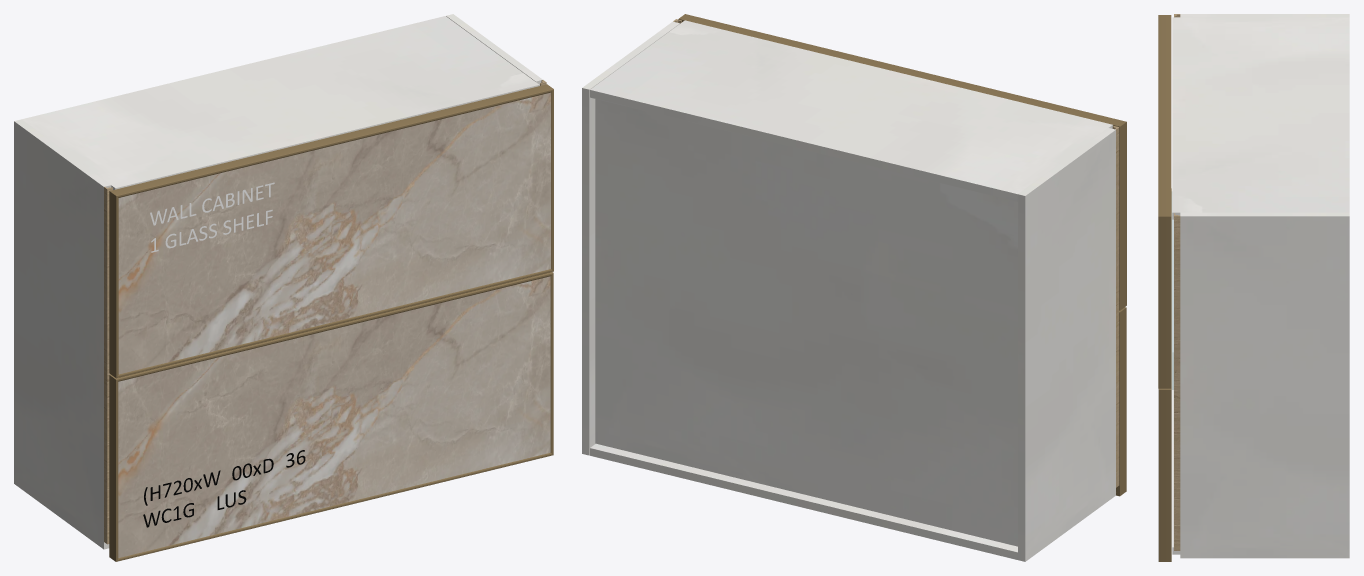
Rendered from WC-LU-NHX-ST-1SG-XXX-XXX-900-725-336-15.glb.
3 views of the same model, side by side, from view 1: azimuth 30°, elevation 25°; view 2: azimuth 150°, elevation 25°; view 3: azimuth 270°, elevation 25° (orthographic). The views are drawn at different scales.
Visible parts, largest first — view 1: Object_node_4, Object_node_6, TP, TP_node_0, Extrusion_node_2, Object_node_8, Extrusion, Extrusion_node_5, Extrusion_node_1, Extrusion_node_0, Extrusion_node_4, 2D text (+3 smaller); view 2: TP_node_2, TP, TP_node_0, TP_node, TP_node_1, Extrusion_node_2, Extrusion_node_1, Extrusion_node_5, Object_node_8; view 3: TP_node_1, TP, Extrusion_node_2, Extrusion_node_3, Extrusion_node, Object_node_16, TP_node_0, TP_node, Object_node_1.
Part boxes in pixels (box(x1,y1,x2,y2)): Object_node_4: box(118, 276, 550, 557); Object_node_6: box(118, 92, 550, 374); TP: box(22, 16, 539, 189); TP_node_0: box(14, 119, 111, 549); Extrusion_node_2: box(110, 84, 553, 197); Object_node_8: box(104, 186, 112, 544); Extrusion: box(109, 272, 553, 381); Extrusion_node_5: box(109, 191, 118, 377); Extrusion_node_1: box(109, 375, 118, 561); Extrusion_node_0: box(116, 453, 553, 561); Extrusion_node_4: box(117, 269, 553, 377); 2D text: box(150, 182, 274, 252); TP_node_2: box(595, 99, 1017, 546); TP: box(590, 20, 1112, 201); TP_node_0: box(1018, 128, 1115, 561); TP_node: box(590, 443, 1017, 559); TP_node_1: box(582, 21, 680, 455); Extrusion_node_2: box(678, 14, 1126, 126); Extrusion_node_1: box(1116, 308, 1126, 495); Extrusion_node_5: box(1119, 122, 1126, 310); Object_node_8: box(1112, 125, 1119, 487); TP_node_1: box(1180, 212, 1349, 558); TP: box(1172, 17, 1349, 219); Extrusion_node_2: box(1158, 15, 1171, 216); Extrusion_node_3: box(1158, 216, 1171, 388); Extrusion_node: box(1158, 390, 1171, 561); Object_node_16: box(1174, 213, 1180, 550); TP_node_0: box(1180, 14, 1349, 17); TP_node: box(1172, 352, 1180, 554); Object_node_1: box(1172, 220, 1173, 389).
Size of what is drawn, in the model's own units: 0.9 by 0.7185 by 0.366.
7 materials, 3 textured.
